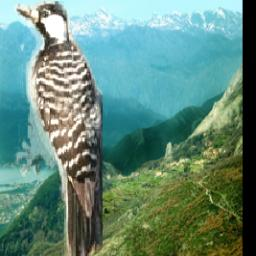Woodpecker: (14, 2, 103, 256)
